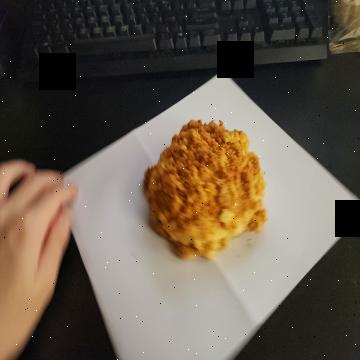soboru_bread: (142, 118, 268, 259)
